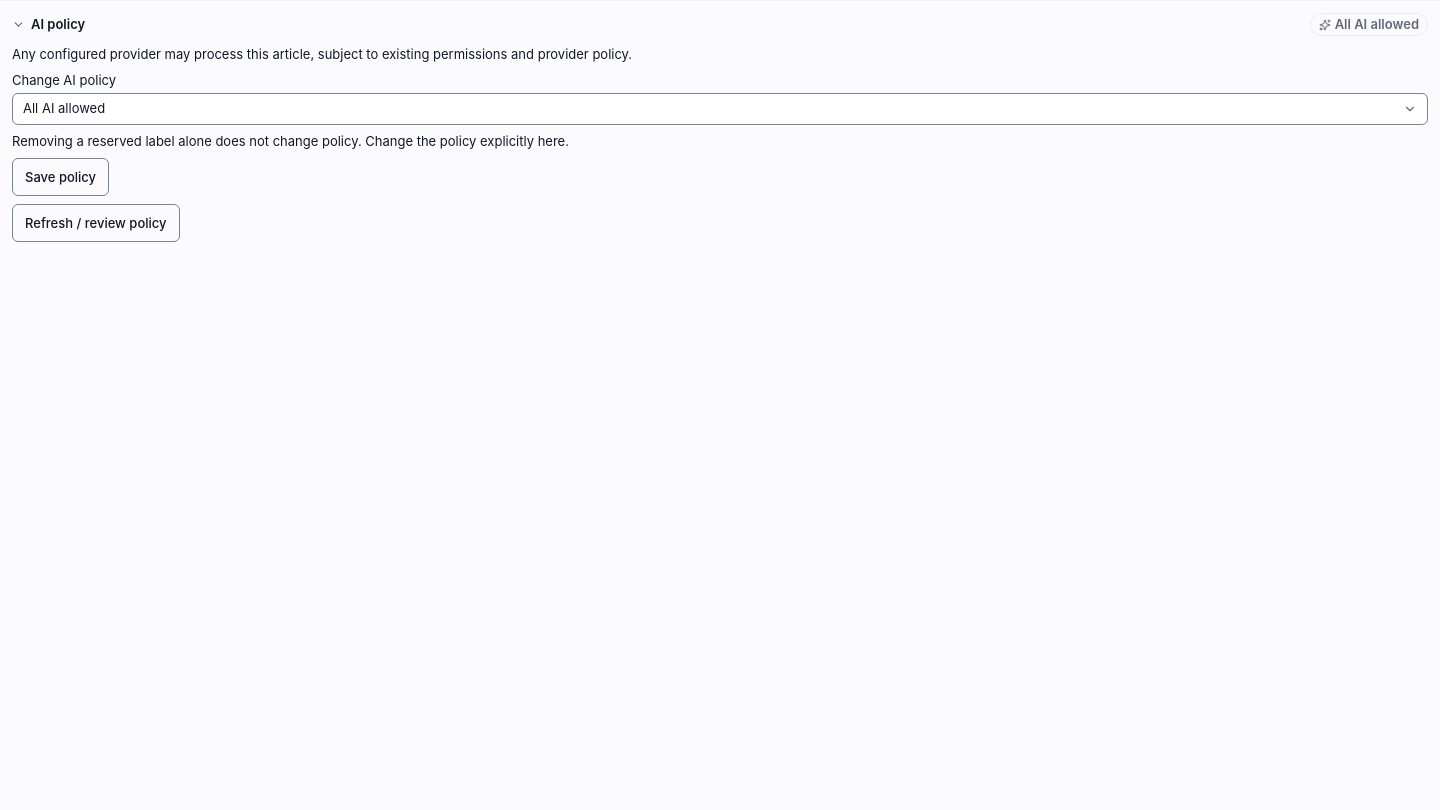
Scenario: mounted article AI policy › confirms real no-AI removals before sending a mutation
The width and height of the screenshot is (1440, 810).
Select "No AI allowed" in the dropdown: (720, 109) [12, 93, 1428, 125]
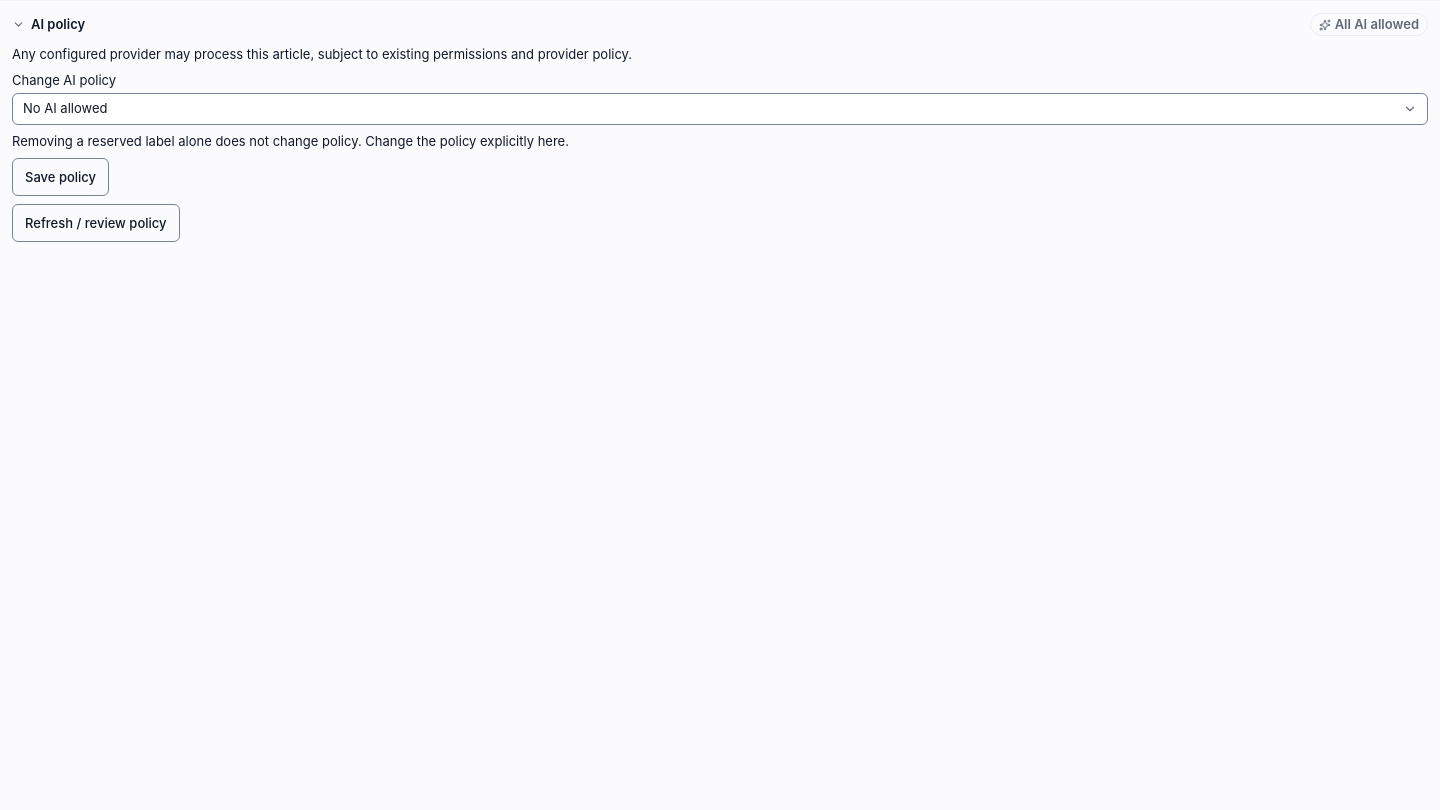
Click the button "Save policy": (61, 177) [12, 158, 109, 196]
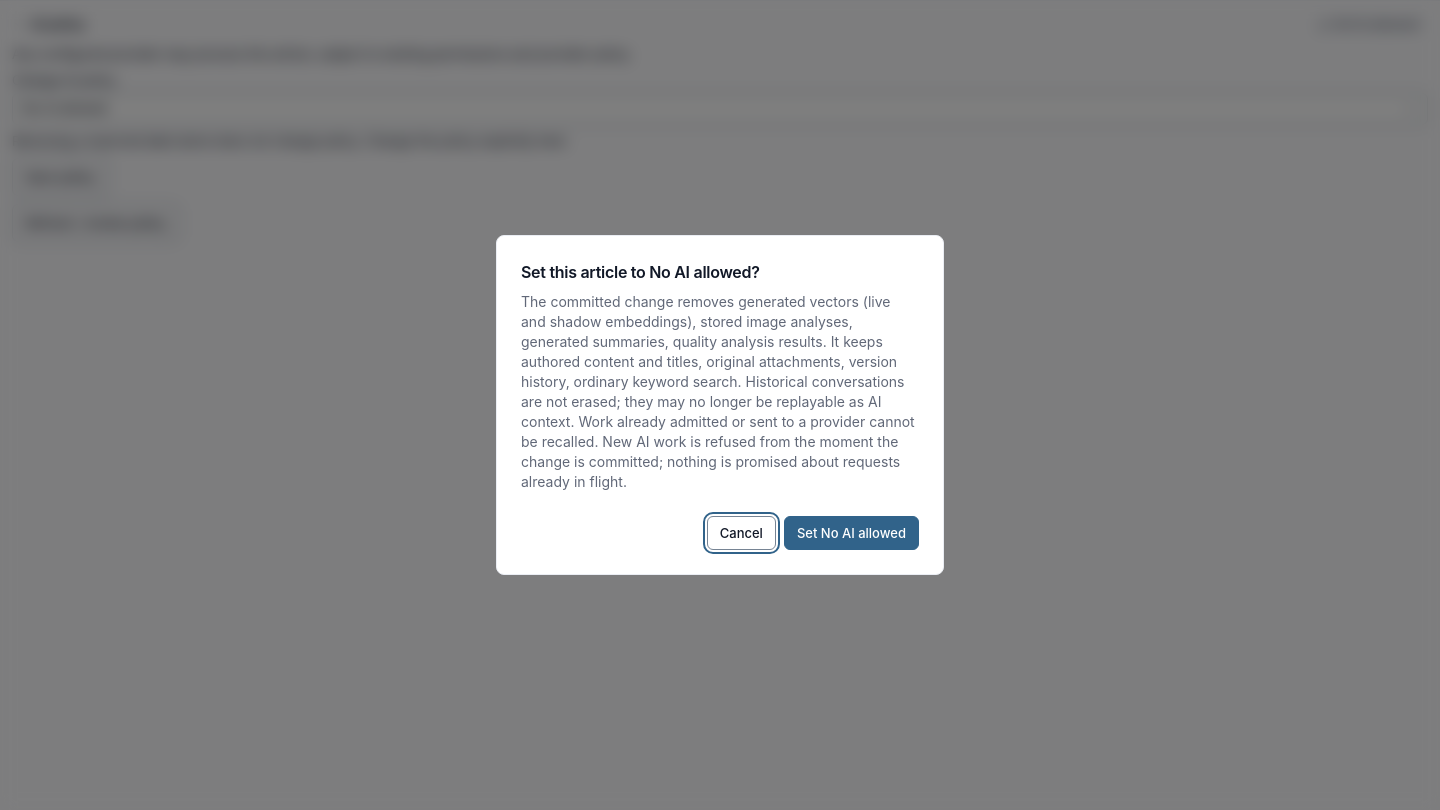
Result: the dialog shows "Historical conversations are not erased" at [521, 293, 915, 490]
Result: the dialog shows "original attachments" at [521, 293, 915, 490]
Result: the dialog shows "cannot be recalled" at [521, 293, 915, 490]
